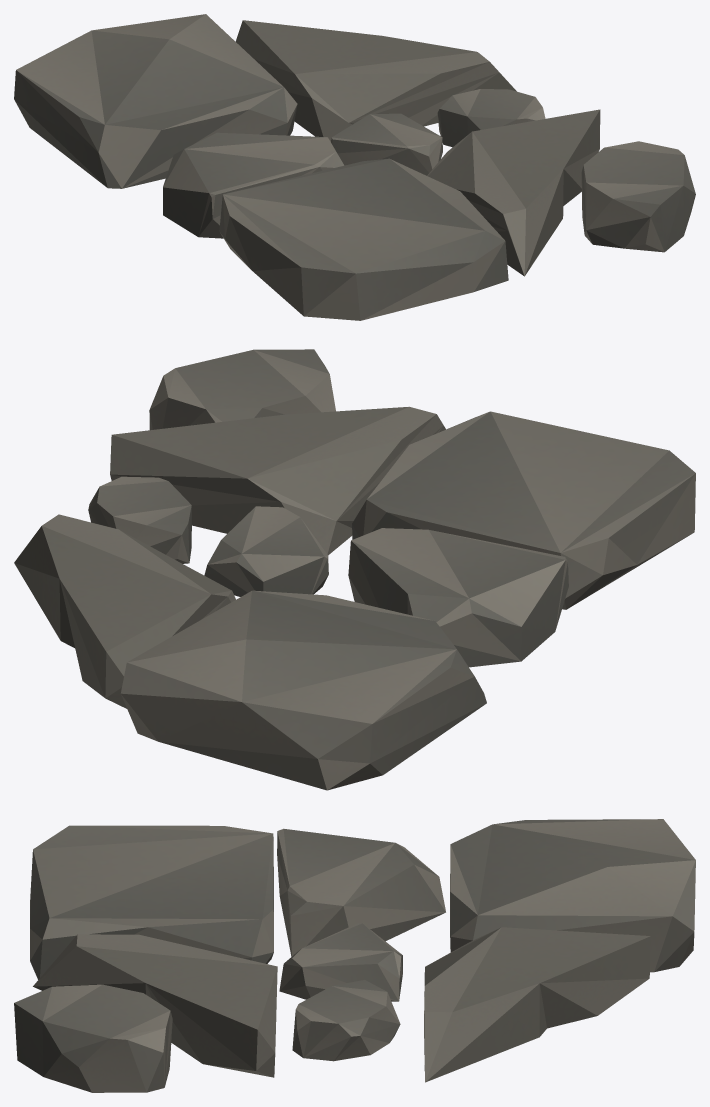
File: Floor_Br_4.fbx
The picture shows the model from 3 angles, top to bottom: view 1: azimuth 30°, elevation 25°; view 2: azimuth 150°, elevation 25°; view 3: azimuth 270°, elevation 25°; orthographic projection. The views are drawn at different scales.
Visible parts, largest first — view 1: polySurface572; view 2: polySurface572; view 3: polySurface572.
Part boxes in pixels (x1,y1,x2,y2): polySurface572: [14, 14, 695, 320]; polySurface572: [14, 349, 695, 790]; polySurface572: [14, 819, 695, 1092].
Size of the model in its own units: 215 by 34.54 by 280.
1 material, 1 textured.
